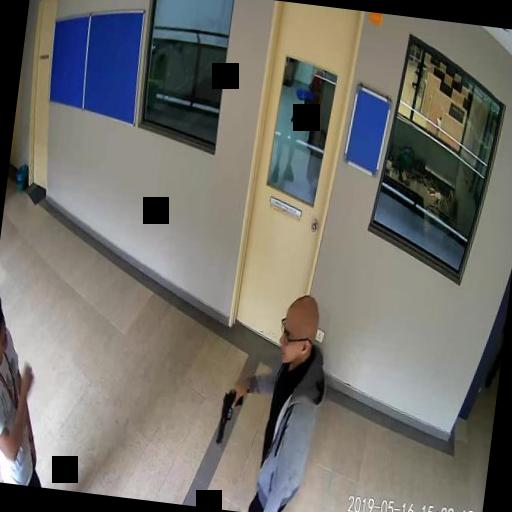Handgun: (214, 388, 244, 446)
